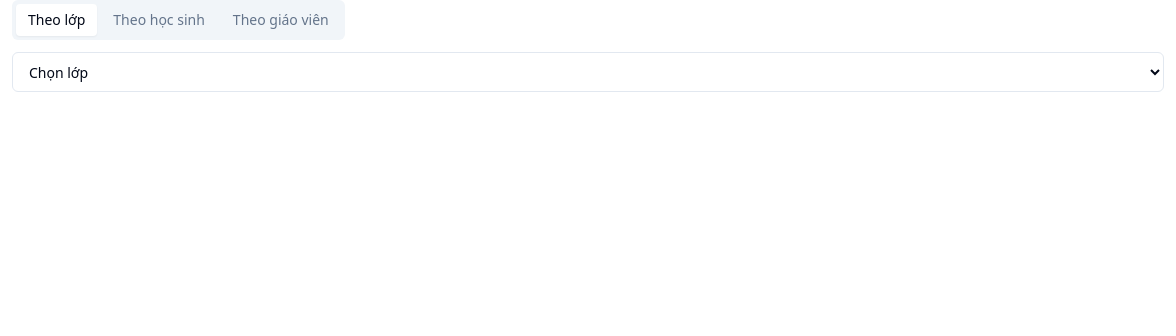
Test: TimetableLookupSection › keeps per-tab selection independent across tab switches
The image size is (1176, 336).
Select "11A" in the dropdown named "Chọn lớp" at (588, 72), box left=12, top=52, right=1164, bottom=92
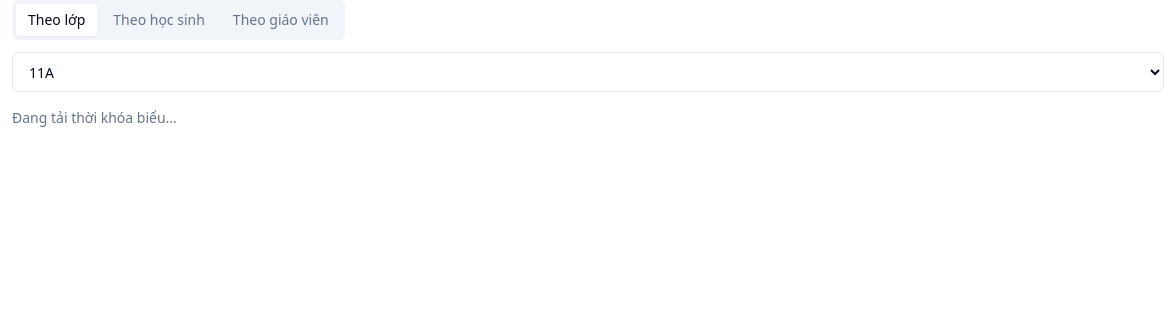
Click the tab "Theo giáo viên" at (281, 20), box left=221, top=4, right=341, bottom=36
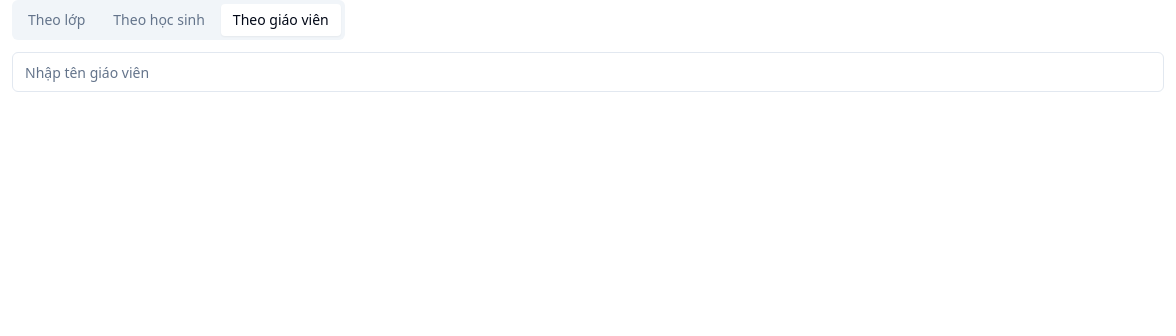
Now the dropdown named "Tìm giáo viên" is shown, box left=12, top=52, right=1164, bottom=92
Click the tab "Theo lớp" at (57, 20), box left=16, top=4, right=97, bottom=36
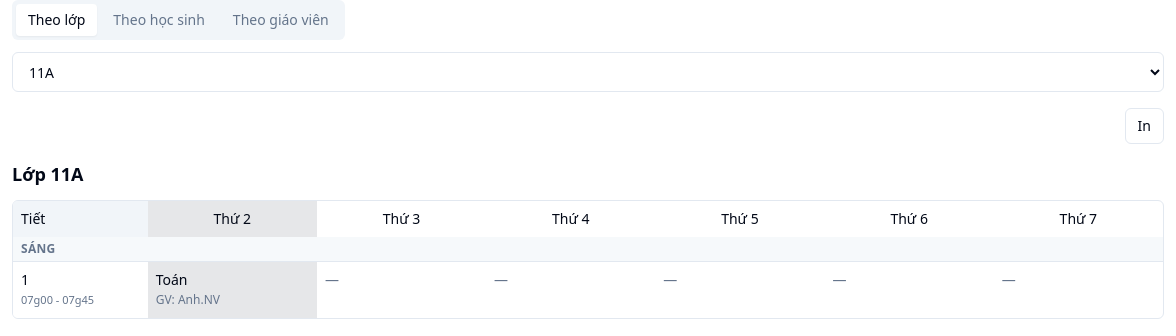
Now the dropdown named "Chọn lớp" shows "11A", box left=12, top=52, right=1164, bottom=92
